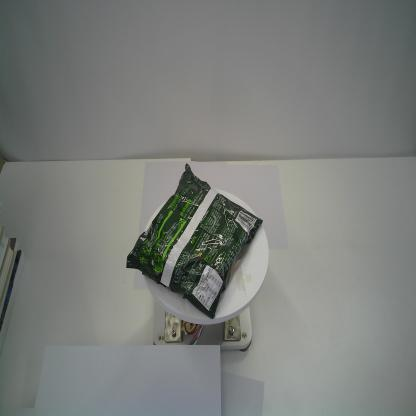Instant Noodles: (125, 162, 263, 320)
